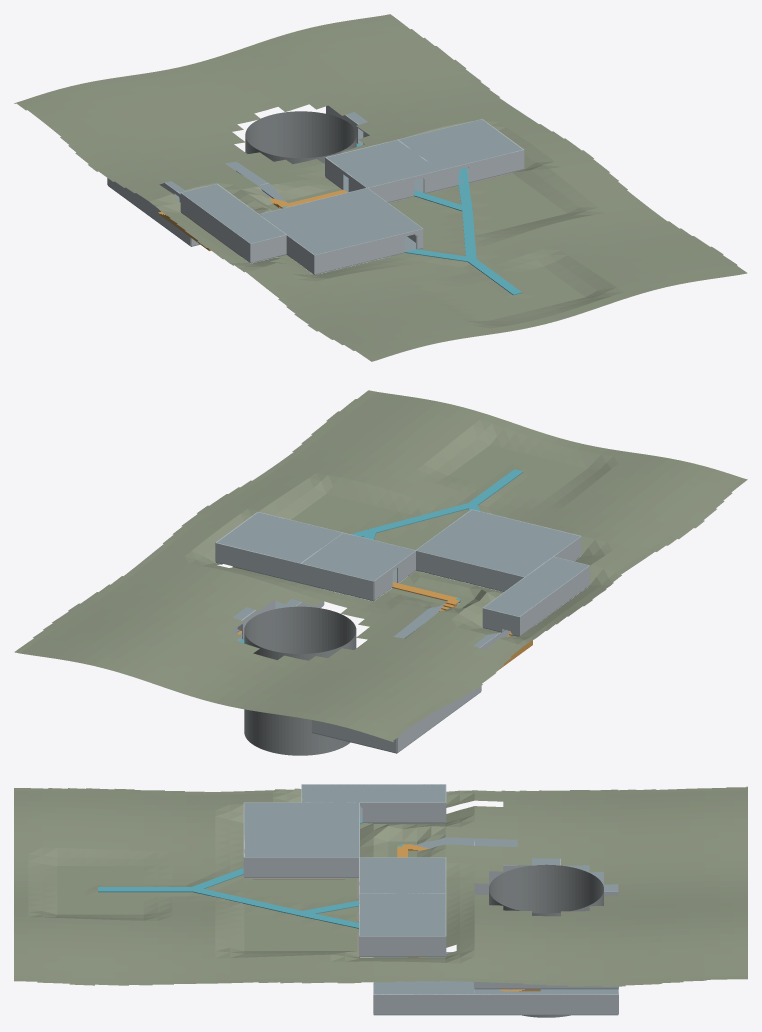
The model's file is cut-terrain.glb.
3 renders of one model, top to bottom at view 1: azimuth 30°, elevation 25°; view 2: azimuth 150°, elevation 25°; view 3: azimuth 270°, elevation 25°, orthographic. The views are drawn at different scales.
Parts seen in each view (by area): view 1: Saved editor circulation terrain WLD-18, Ceiling cap servicehouse, EMPTY SHAFT / guard engineering pending, Ceiling cap shop, Ceiling cap head, Ceiling cap exit, Flat route shell Wall servicehouse S, Wall exit W, Flat route shell Wall shop S.001, Flat route shell Wall head S, Wall exit S, Wall servicehouse W.001; view 2: Saved editor circulation terrain WLD-18, EMPTY SHAFT / guard engineering pending, Ceiling cap servicehouse, Ceiling cap shop, Ceiling cap head, Ceiling cap exit, Flat route shell Wall servicehouse N, Wall shop N, Wall head N, Wall exit W, Wall pump N, Opened stair shell Wall exit N (+2 smaller); view 3: Saved editor circulation terrain WLD-18, Ceiling cap servicehouse, EMPTY SHAFT / guard engineering pending, Ceiling cap shop, Ceiling cap head, Wall east E, Ceiling cap exit, Wall servicehouse E, Wall plant E, Wall shop E, Flat route shell Wall exit E, Ceiling cap plant (+4 smaller).
Part boxes in pixels (left/top/right/bottom): Saved editor circulation terrain WLD-18: left=14, top=14, right=747, bottom=361; Ceiling cap servicehouse: left=259, top=188, right=422, bottom=254; EMPTY SHAFT / guard engineering pending: left=245, top=111, right=356, bottom=256; Ceiling cap shop: left=399, top=119, right=522, bottom=170; Ceiling cap head: left=326, top=140, right=438, bottom=187; Ceiling cap exit: left=181, top=184, right=285, bottom=243; Flat route shell Wall servicehouse S: left=314, top=233, right=406, bottom=273; Wall exit W: left=180, top=193, right=250, bottom=262; Flat route shell Wall shop S.001: left=468, top=149, right=524, bottom=182; Flat route shell Wall head S: left=368, top=176, right=414, bottom=201; Wall exit S: left=250, top=234, right=286, bottom=262; Wall servicehouse W.001: left=264, top=218, right=314, bottom=273; Saved editor circulation terrain WLD-18: left=14, top=390, right=747, bottom=742; EMPTY SHAFT / guard engineering pending: left=244, top=606, right=356, bottom=755; Ceiling cap servicehouse: left=416, top=509, right=580, bottom=576; Ceiling cap shop: left=217, top=512, right=341, bottom=563; Ceiling cap head: left=302, top=533, right=415, bottom=581; Ceiling cap exit: left=483, top=557, right=589, bottom=616; Flat route shell Wall servicehouse N: left=416, top=550, right=523, bottom=591; Wall shop N: left=215, top=542, right=300, bottom=582; Wall head N: left=300, top=563, right=373, bottom=600; Wall exit W: left=519, top=565, right=589, bottom=635; Wall pump N: left=311, top=720, right=396, bottom=752; Opened stair shell Wall exit N: left=482, top=608, right=519, bottom=635; Saved editor circulation terrain WLD-18: left=14, top=786, right=747, bottom=986; Ceiling cap servicehouse: left=244, top=802, right=359, bottom=857; EMPTY SHAFT / guard engineering pending: left=489, top=864, right=603, bottom=1017; Ceiling cap shop: left=359, top=894, right=445, bottom=936; Ceiling cap head: left=359, top=857, right=445, bottom=893; Wall east E: left=474, top=994, right=618, bottom=1014; Ceiling cap exit: left=302, top=784, right=445, bottom=802; Wall servicehouse E: left=244, top=857, right=358, bottom=877; Wall plant E: left=373, top=994, right=474, bottom=1014; Wall shop E: left=359, top=936, right=445, bottom=956; Flat route shell Wall exit E: left=361, top=802, right=445, bottom=822; Ceiling cap plant: left=373, top=952, right=474, bottom=994.
Bounding box in the file's own units: 64 × 19 × 102.
